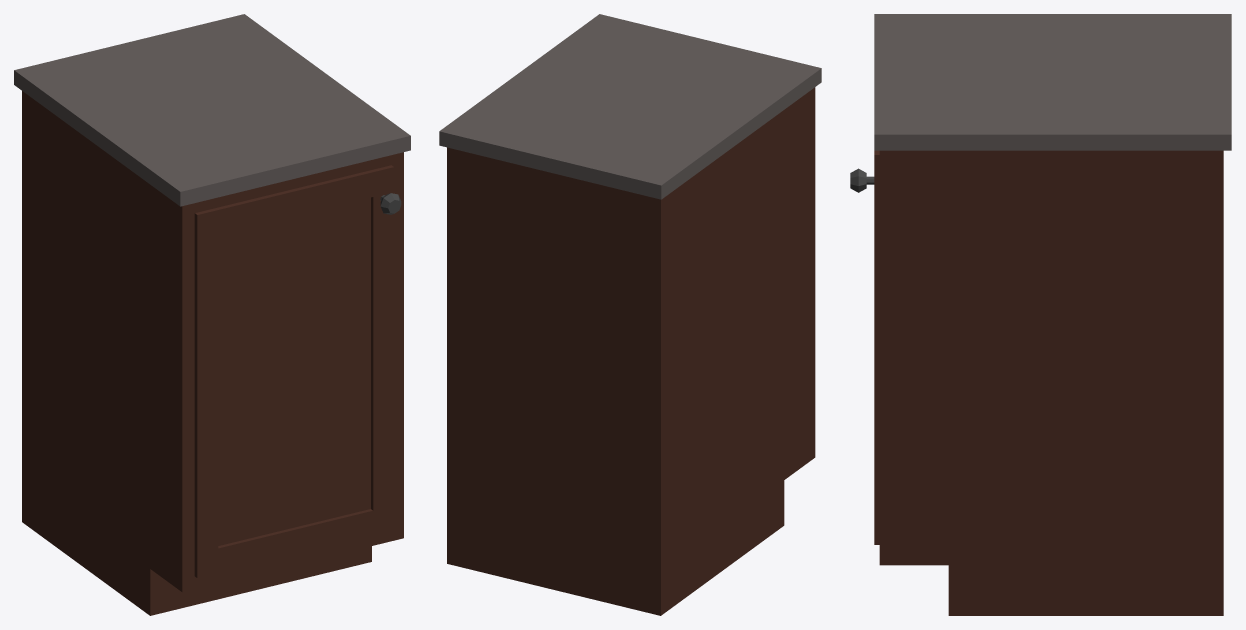
Rendered from SingleDoorBaseCabinet1.glb.
3 views of the same model, side by side, from view 1: azimuth 30°, elevation 25°; view 2: azimuth 150°, elevation 25°; view 3: azimuth 270°, elevation 25° (orthographic). The views are drawn at different scales.
Visible parts, largest first — view 1: SingleDoorBaseCabinet1, Door1SingleDoorbaseCabinet1; view 2: SingleDoorBaseCabinet1; view 3: SingleDoorBaseCabinet1, Door1SingleDoorbaseCabinet1.
Boxes of the visible parts, x1=… form: SingleDoorBaseCabinet1: x1=14, y1=14, x2=410, y2=615; Door1SingleDoorbaseCabinet1: x1=194, y1=165, x2=401, y2=578; SingleDoorBaseCabinet1: x1=439, y1=14, x2=821, y2=615; SingleDoorBaseCabinet1: x1=874, y1=14, x2=1231, y2=615; Door1SingleDoorbaseCabinet1: x1=850, y1=150, x2=879, y2=544.
Size of the model in its own units: 0.4863 by 0.9081 by 0.6489.
